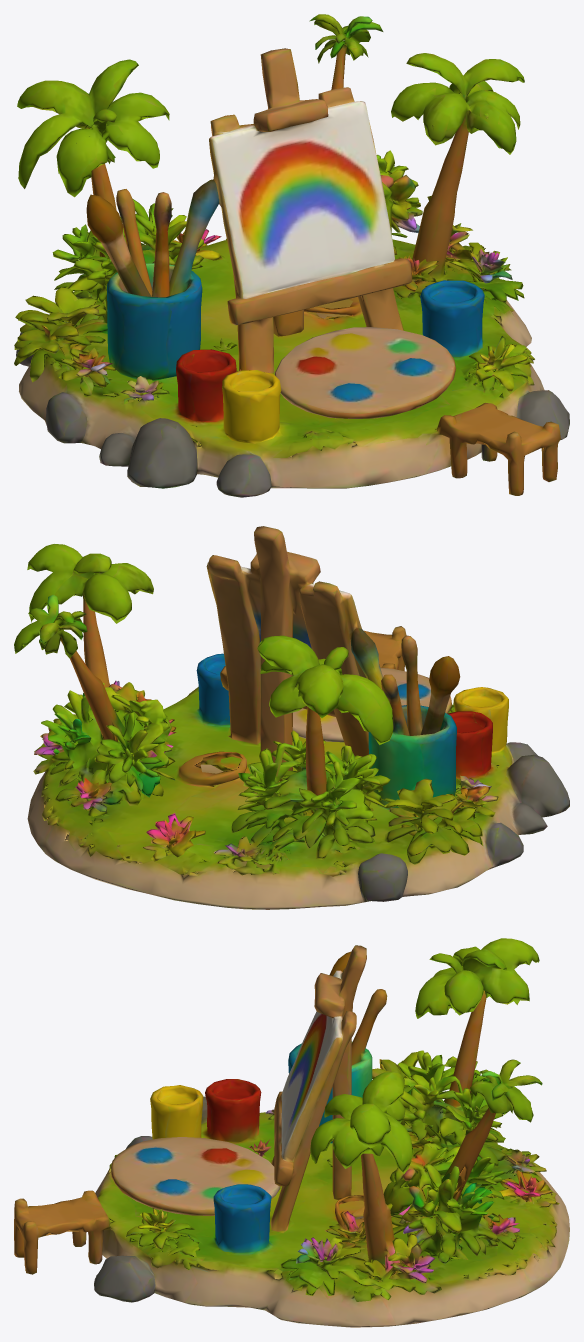
The model's file is isl-00.glb.
3 views of the same model, one above another, from view 1: azimuth 30°, elevation 25°; view 2: azimuth 150°, elevation 25°; view 3: azimuth 270°, elevation 25° (orthographic). The views are drawn at different scales.
Visible parts, largest first — view 1: world; view 2: world; view 3: world.
Part boxes in pixels (x1,y1,x2,y2): world: [14, 14, 569, 497]; world: [14, 526, 569, 909]; world: [14, 938, 569, 1327].
Size of the model in its own units: 0.9269 by 0.5631 by 0.9988.
Materials: 1 (1 with a texture image).
